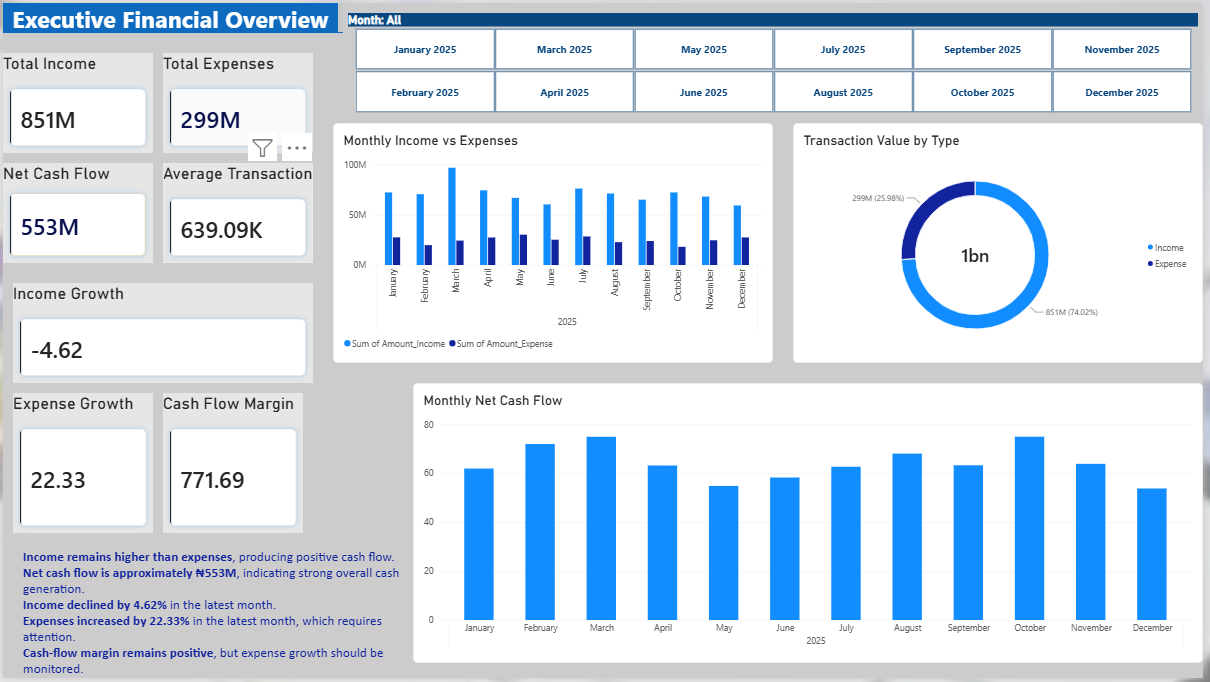

What the dashboard file says about the page in this screenshot:
{"tool":"powerbi","page":{"name":"Executive Financial Overview","canvas":[1920,1080],"ordinal":0},"visuals":[{"type":"textbox","box":[0,0,544,48],"z":0},{"type":"cardVisual","title":"Total Income","fields":{"Data":["Sum(Monthly_Cash_Flow.Amount_Income)"]},"box":[0,80,240,160],"z":1000},{"type":"cardVisual","title":"Total Expenses","fields":{"Data":["Sum(Monthly_Cash_Flow.Amount_Expense)"]},"box":[256,80,240,160],"z":2000},{"type":"cardVisual","title":"Net Cash Flow","fields":{"Data":["Sum(Monthly_Cash_Flow.Net_Cash_Flow)"]},"box":[0,256,240,160],"z":3000},{"type":"cardVisual","title":"Average Transaction","fields":{"Data":["Avg(Clean_Data.Amount)"]},"box":[256,256,240,160],"z":4000},{"type":"cardVisual","title":"Income Growth","fields":{"Data":["Sum(Monthly_Cash_Flow.Income_MoM_%)"]},"box":[16,448,480,160],"z":5000},{"type":"cardVisual","title":"Expense Growth","fields":{"Data":["Sum(Monthly_Cash_Flow.Expense_MoM_%)"]},"box":[16,624,224,224],"z":6000},{"type":"cardVisual","title":"Cash Flow Margin","fields":{"Data":["Sum(Monthly_Cash_Flow.Cash_Flow_Margin_%)"]},"box":[256,624,224,224],"z":7000},{"type":"textbox","box":[32,872,656,208],"z":8000},{"type":"slicer","fields":{"Values":["Monthly_Cash_Flow.Month"]},"box":[544,16,1376,160],"z":9000},{"type":"lineClusteredColumnComboChart","title":"Monthly Income vs Expenses","fields":{"Y":["Sum(Monthly_Cash_Flow.Amount_Income)","Sum(Monthly_Cash_Flow.Amount_Expense)"],"Category":["Monthly_Cash_Flow.Month.Variation.Date Hierarchy.Year","Monthly_Cash_Flow.Month.Variation.Date Hierarchy.Month"]},"box":[528,192,704,384],"z":10000},{"type":"clusteredColumnChart","title":"Monthly Net Cash Flow","fields":{"Y":["Sum(Monthly_Cash_Flow.Cash_Flow_Margin_%)"],"Category":["Monthly_Cash_Flow.Month.Variation.Date Hierarchy.Year","Monthly_Cash_Flow.Month.Variation.Date Hierarchy.Month"]},"box":[656,608,1264,448],"z":11000},{"type":"donutChart","title":"Transaction Value by Type","fields":{"Category":["Transaction_Type.Transaction_Type"],"Y":["Sum(Transaction_Type.Total_Amount)"]},"box":[1264,192,656,384],"z":12000}]}

Visuals, with their boxes in screenshot pixels (x1, y1, x2, y2), scaled from the page's 1920x1080 canvas onto the 1210x682 screenshot:
textbox: locate(0, 0, 343, 30)
"Total Income" cardVisual: locate(0, 51, 151, 152)
"Total Expenses" cardVisual: locate(161, 51, 313, 152)
"Net Cash Flow" cardVisual: locate(0, 162, 151, 263)
"Average Transaction" cardVisual: locate(161, 162, 313, 263)
"Income Growth" cardVisual: locate(10, 283, 313, 384)
"Expense Growth" cardVisual: locate(10, 394, 151, 535)
"Cash Flow Margin" cardVisual: locate(161, 394, 302, 535)
textbox: locate(20, 551, 434, 681)
slicer - Monthly_Cash_Flow.Month: locate(343, 10, 1209, 111)
"Monthly Income vs Expenses" lineClusteredColumnComboChart: locate(333, 121, 776, 364)
"Monthly Net Cash Flow" clusteredColumnChart: locate(413, 384, 1209, 667)
"Transaction Value by Type" donutChart: locate(797, 121, 1209, 364)
